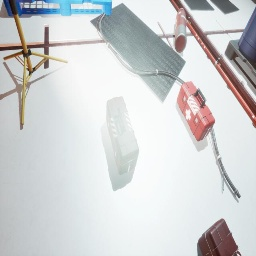FirstAidBox ,: (106, 96, 139, 175), (177, 81, 215, 141), (198, 218, 242, 256)
NitrogenTank ,: (174, 8, 187, 53)
